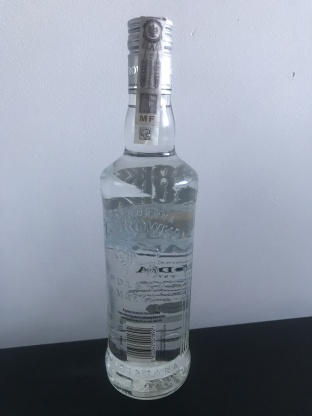nakretka: (124, 10, 176, 98)
